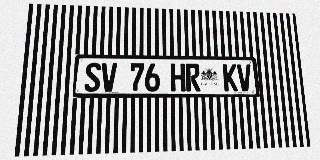6: (145, 63, 160, 92)
7: (129, 63, 144, 92)
H: (170, 63, 186, 91)
K: (223, 64, 238, 91)
R: (185, 64, 201, 91)
S: (84, 63, 101, 92)
V: (101, 63, 117, 92), (237, 64, 252, 91)
